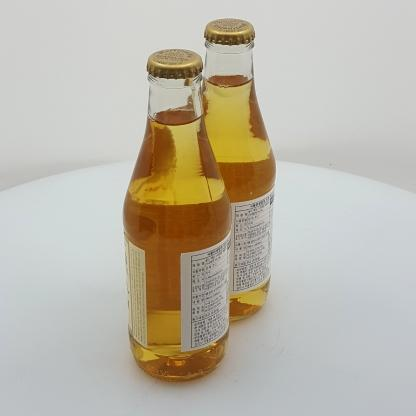------------------296ML: (122, 49, 232, 382), (187, 18, 276, 322)
